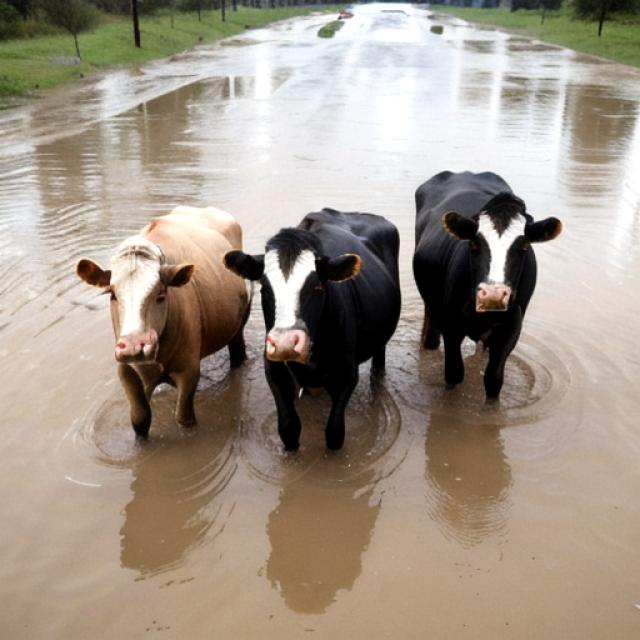cow: (210, 188, 408, 469), (62, 190, 268, 451), (400, 167, 567, 409)
